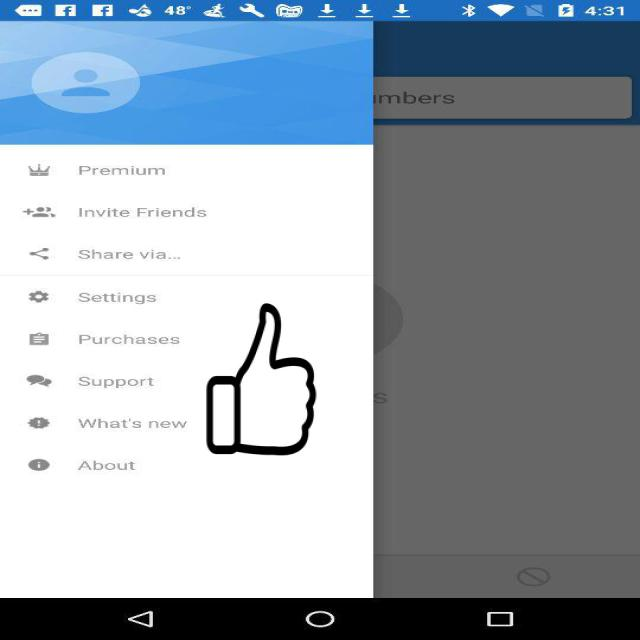privacy zuckering: (205, 304, 318, 456)
